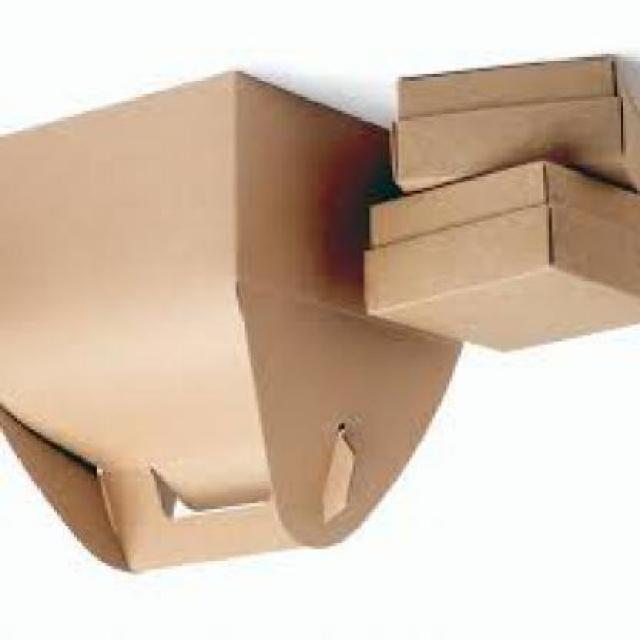box: (0, 65, 468, 616), (360, 48, 640, 368)
